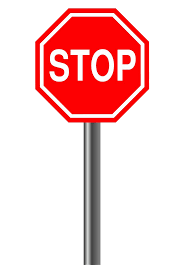SS: (34, 8, 150, 124)
